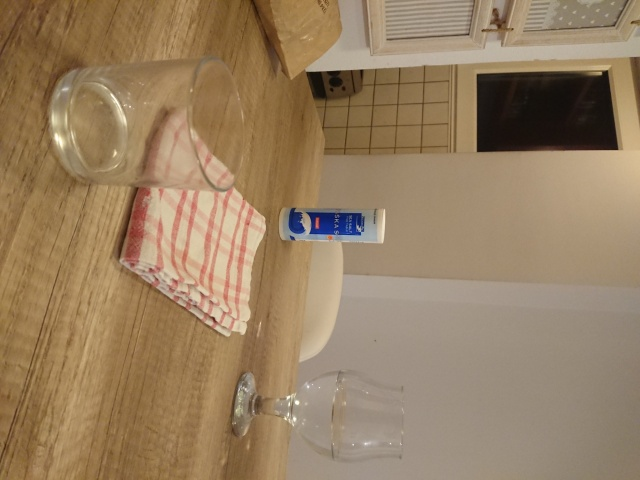Solana Pag Fine Sea Salt 250g: (276, 205, 388, 246)
